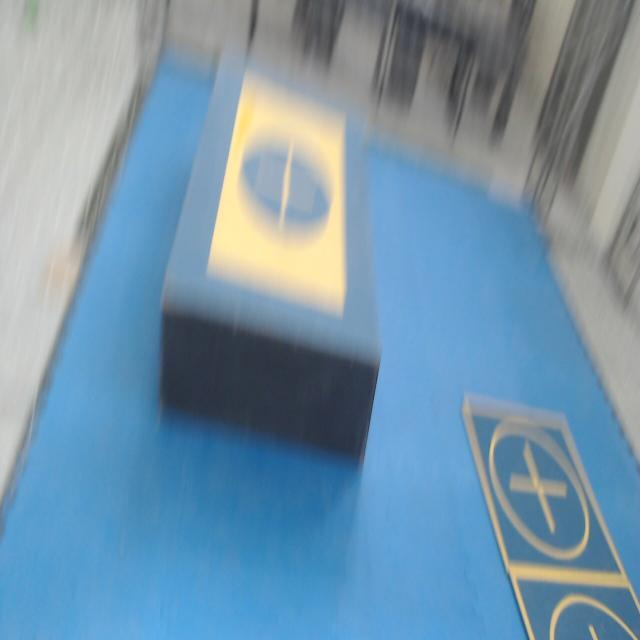base_inicio: (208, 74, 346, 313)
base_pouso: (461, 398, 629, 577), (508, 572, 640, 639)
